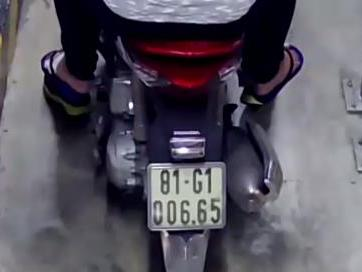num_plate: (148, 163, 226, 228)
